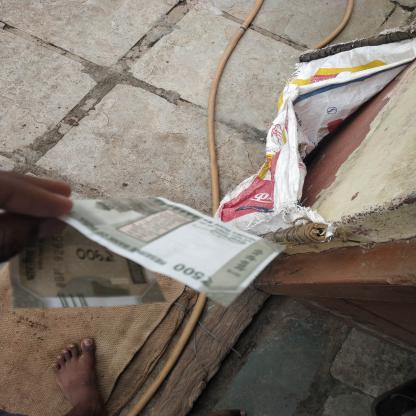New500Back: (72, 193, 276, 301)
